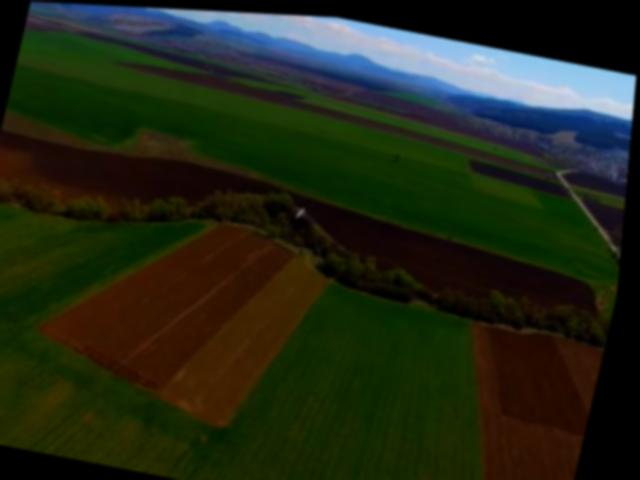uav: (294, 194, 316, 222)
